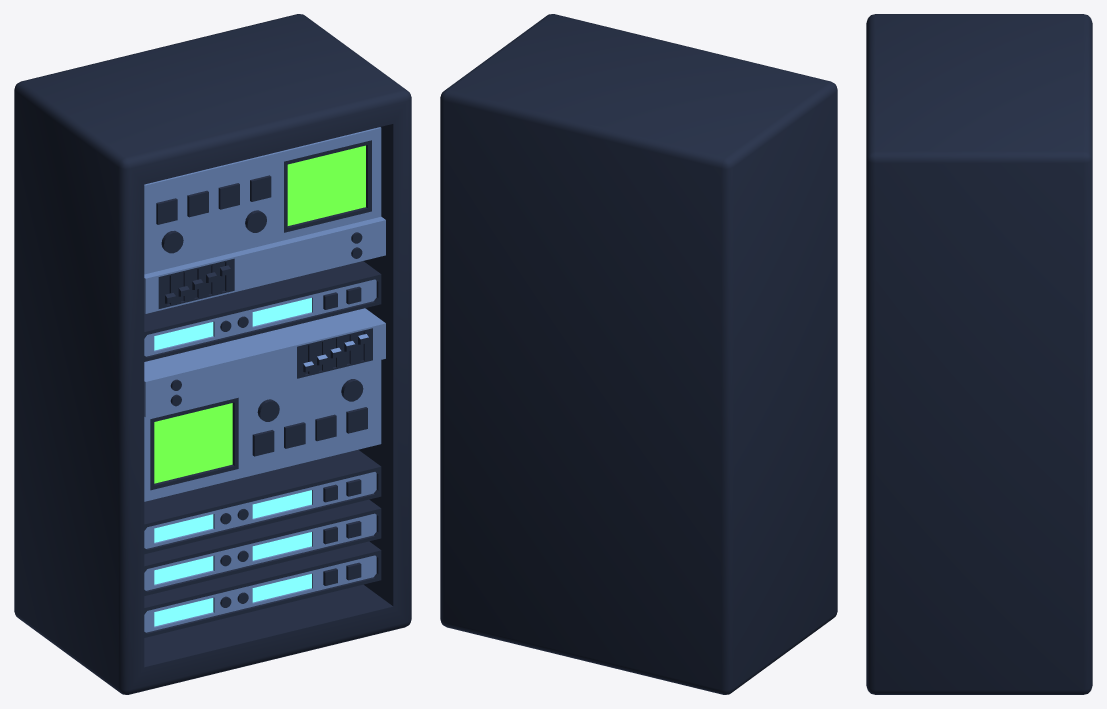
Rendered from Server_02.fbx.
The picture shows the model from 3 angles, left to right: view 1: azimuth 30°, elevation 25°; view 2: azimuth 150°, elevation 25°; view 3: azimuth 270°, elevation 25°; orthographic projection.
Visible parts, largest first — view 1: Cube.164, Cube.165.frozen.001, Cube.170.frozen.001, Cube.165.frozen, Cube.170.frozen; view 2: Cube.164; view 3: Cube.164.
Boxes of the visible parts, x1,y1,x2,y2 form: Cube.164: (14, 14, 411, 694); Cube.165.frozen.001: (144, 308, 385, 501); Cube.170.frozen.001: (144, 450, 381, 637); Cube.165.frozen: (144, 127, 385, 313); Cube.170.frozen: (144, 261, 381, 361); Cube.164: (440, 14, 837, 694); Cube.164: (866, 14, 1092, 694).
Size of the model in its own units: 113 by 199 by 75.11.
